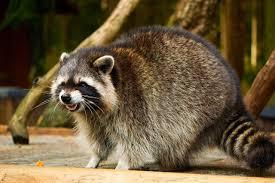raccoon: (35, 11, 275, 183)
